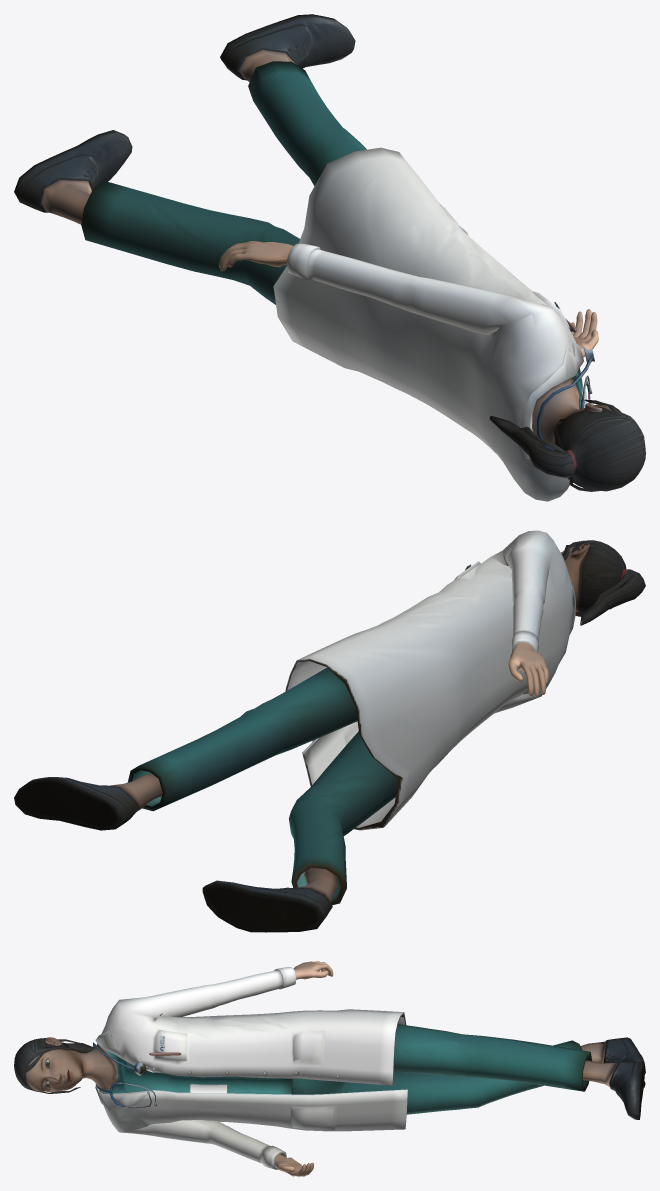
The model's file is walk.obj.
3 views of the same model, one above another, from view 1: azimuth 30°, elevation 25°; view 2: azimuth 150°, elevation 25°; view 3: azimuth 270°, elevation 25° (orthographic). The views are drawn at different scales.
Size of the model in its own units: 0.7588 by 0.3736 by 1.7.
1 material, 1 textured.
